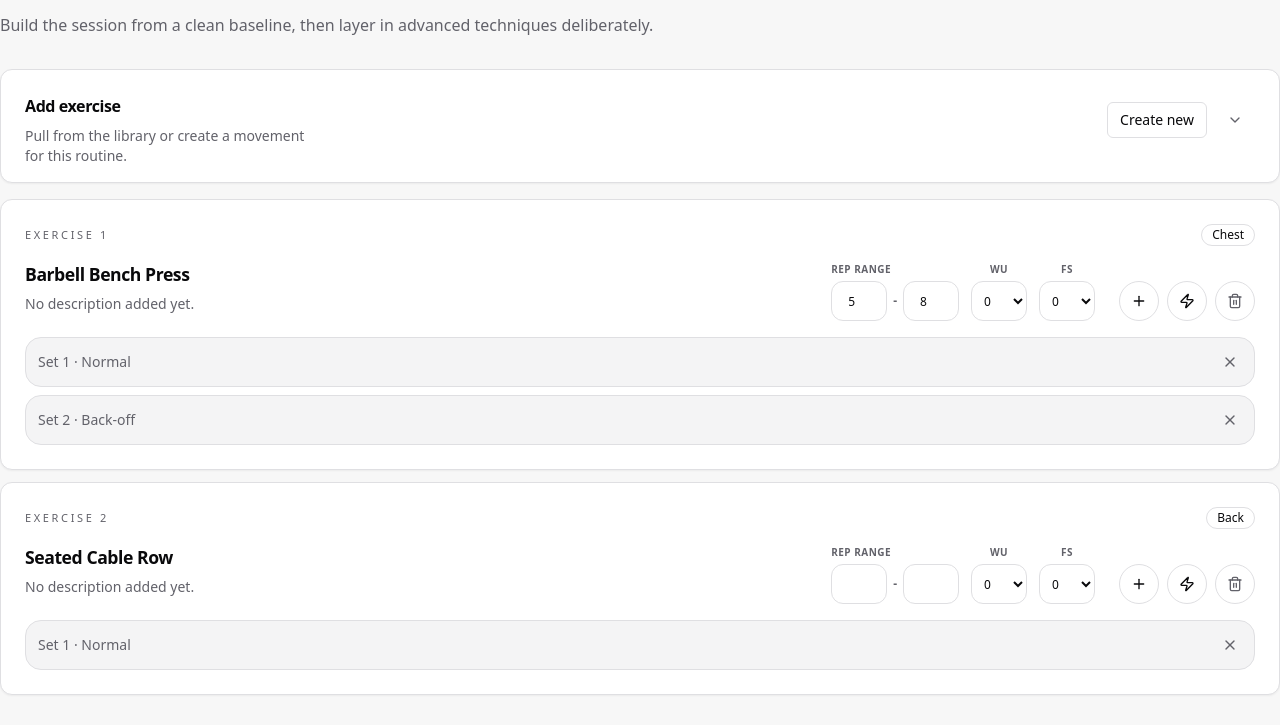
it: RoutineDetailPage › creates a superset from the picker by selecting two different exercises
Click the button named "expand add".
click(1235, 120)  # box [1215,100,1255,140]
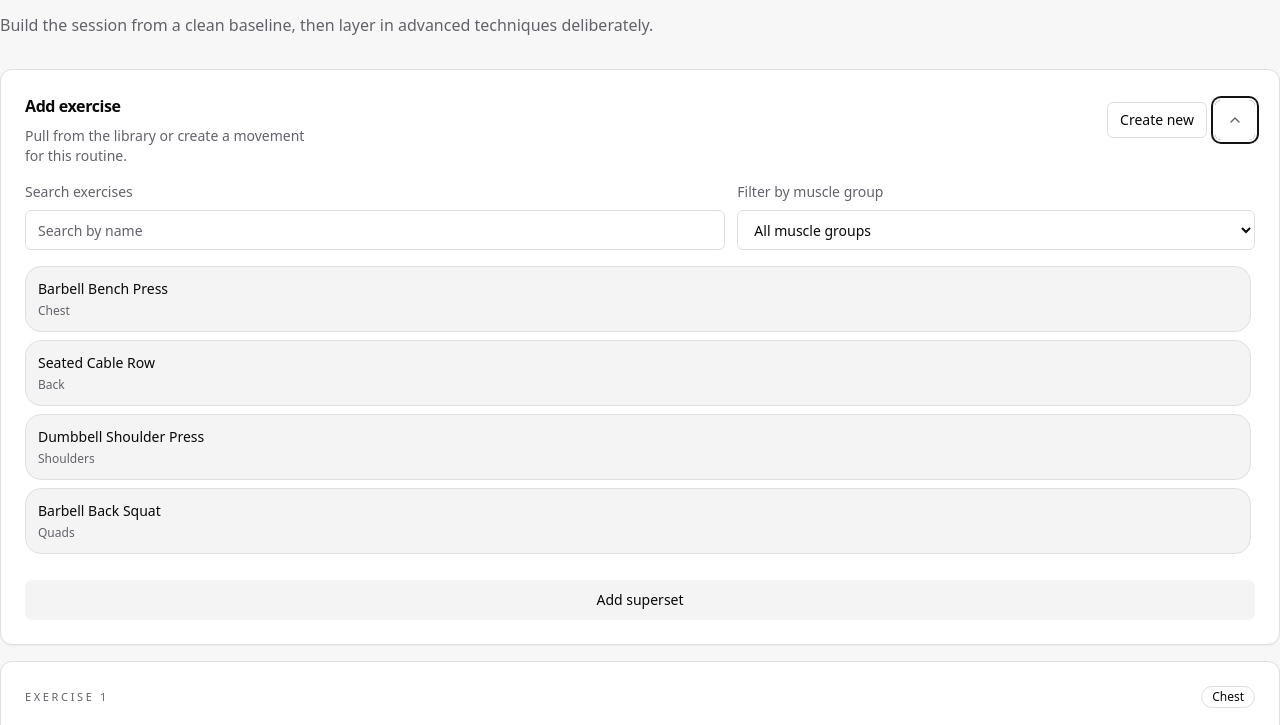
Click the button "Add superset".
click(640, 600)  # box [25,580,1255,620]
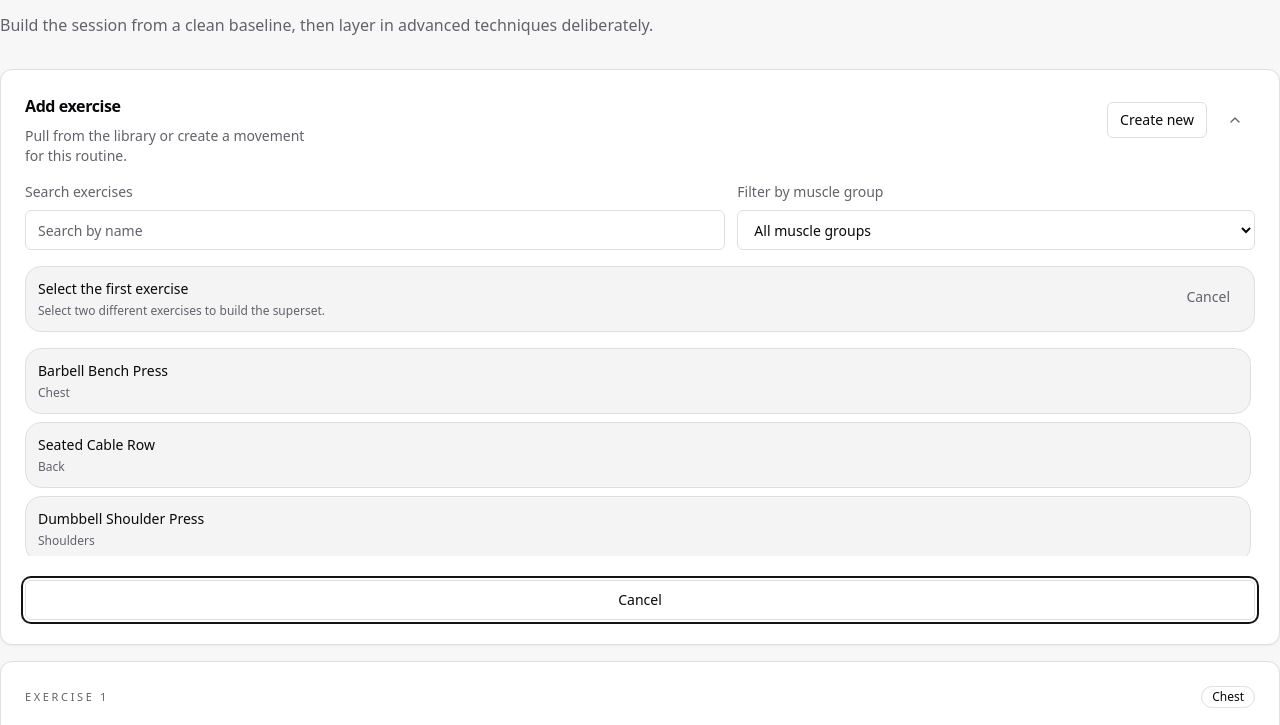
Expected: the text "Select the first exercise" is shown, [38,279,188,298]
Click the button "Barbell Bench Press Chest".
click(103, 370)  # box [25,348,1251,414]
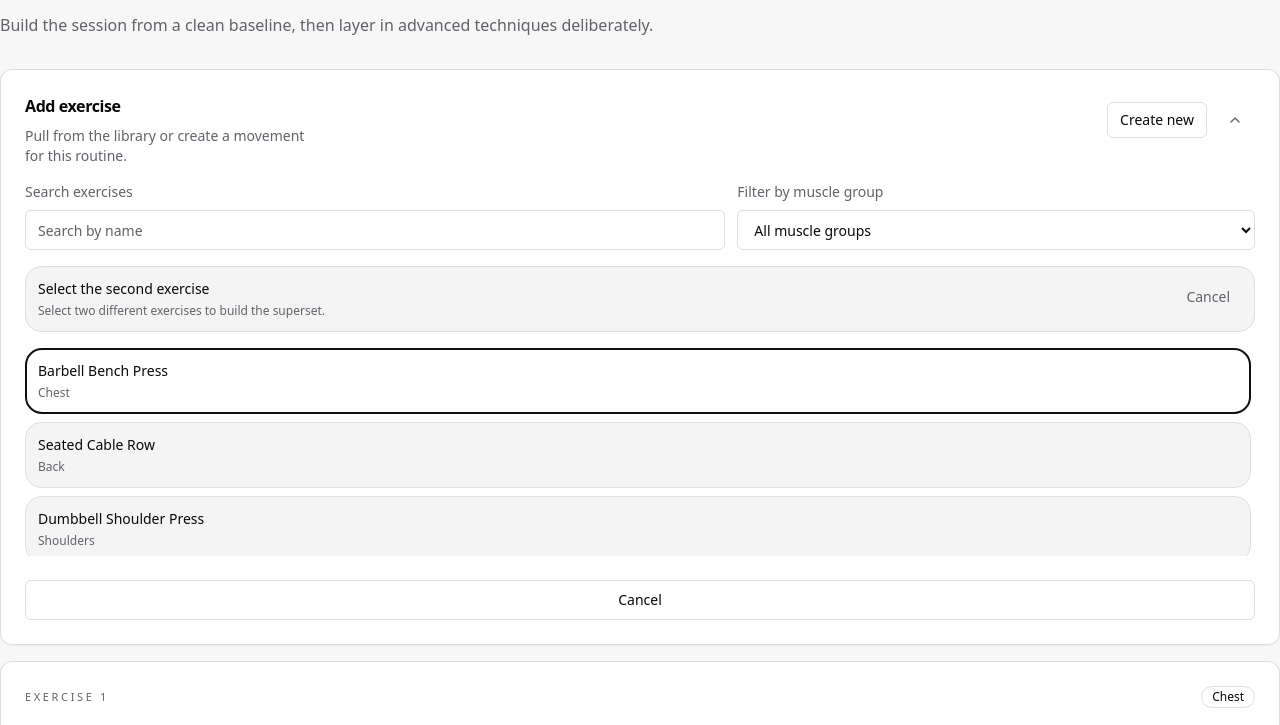
Expected: the text "Select the second exercise" is shown, [38,279,210,298]
Click the button "Seated Cable Row Back".
click(96, 444)  # box [25,422,1251,488]
(page scrolled)
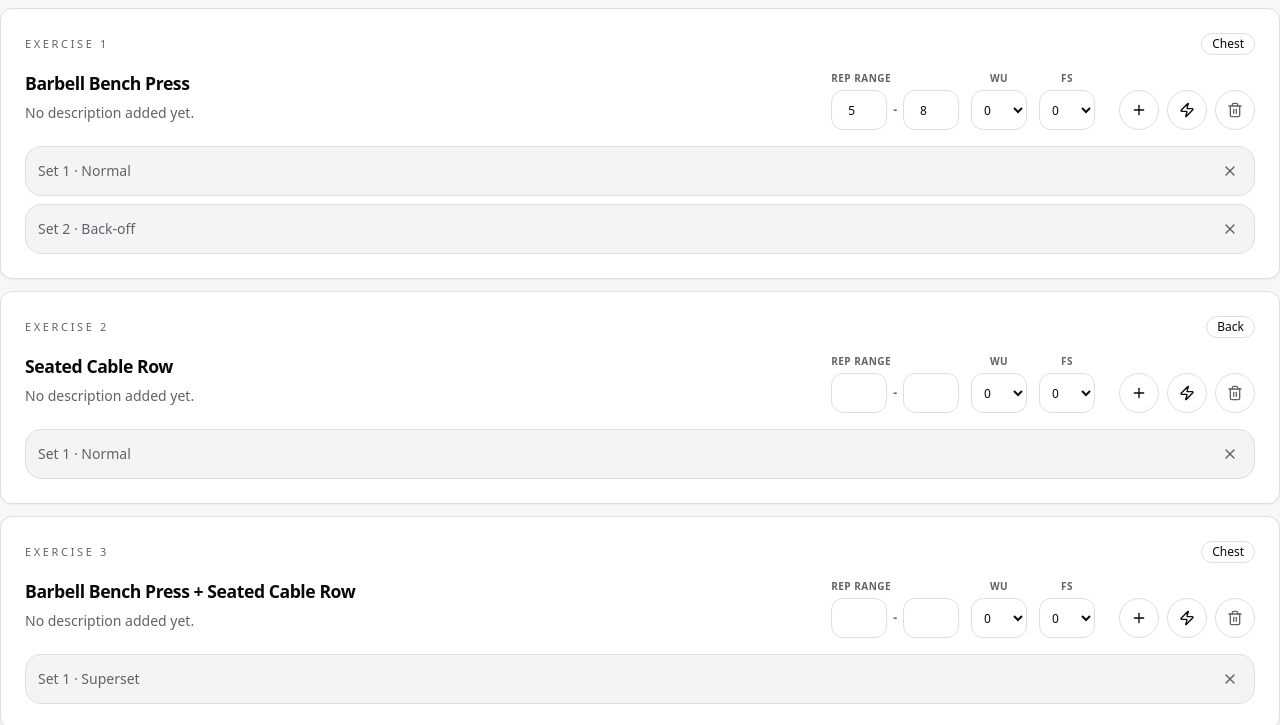
Expected: the heading "Barbell Bench Press + Seated Cable Row" is shown, [25,579,355,603]
